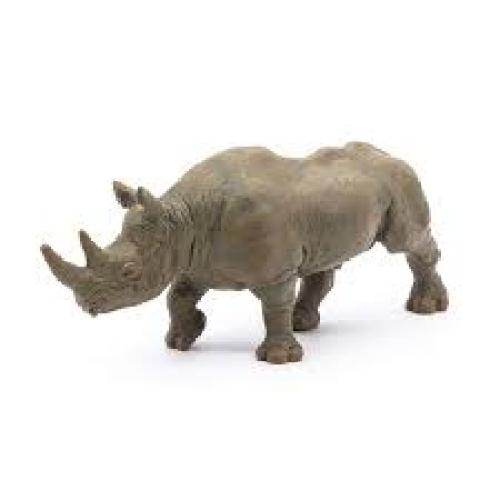rhino-endangered: (42, 144, 449, 354)
